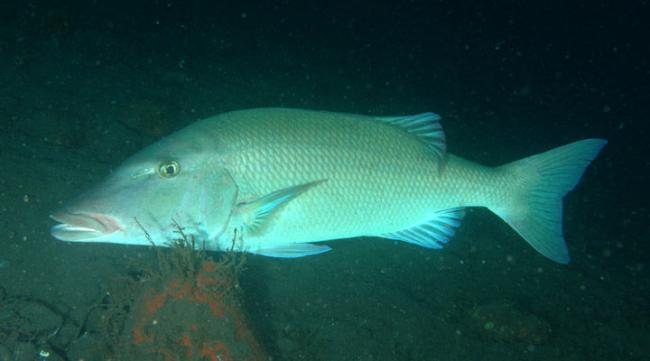fish: (47, 107, 609, 265)
